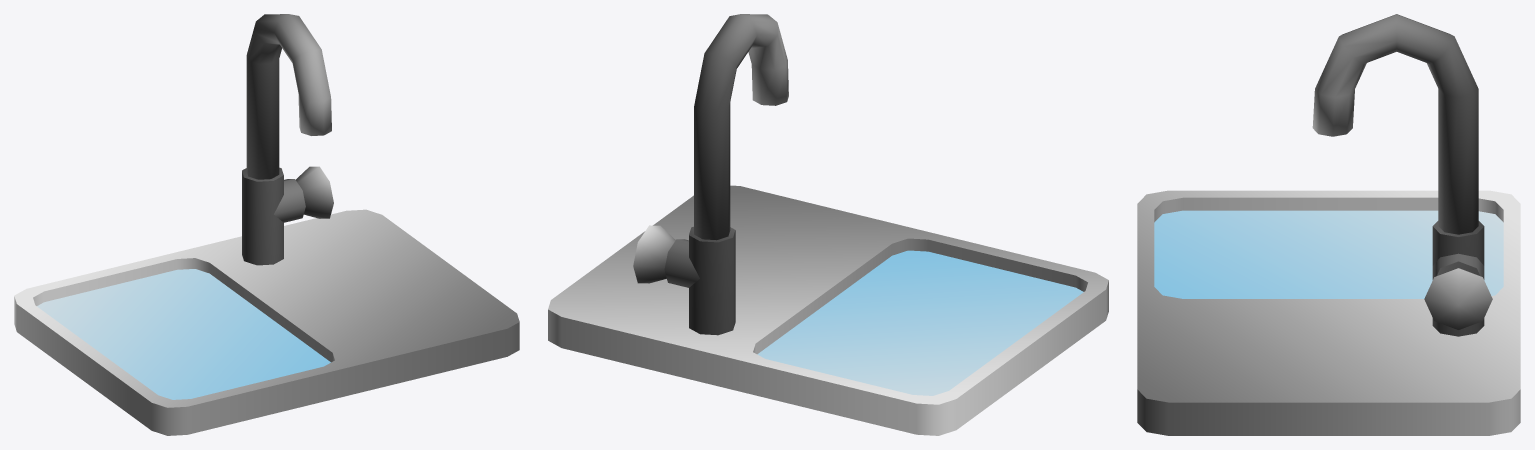
The model's file is Sink.fbx.
The picture shows the model from 3 angles, left to right: view 1: azimuth 30°, elevation 25°; view 2: azimuth 150°, elevation 25°; view 3: azimuth 270°, elevation 25°; orthographic projection. The views are drawn at different scales.
Parts seen in each view (by area): view 1: Water Sink Here; view 2: Water Sink Here; view 3: Water Sink Here.
Boxes of the visible parts, x1,y1,x2,y2 form: Water Sink Here: (14,14,519,435); Water Sink Here: (548,14,1108,435); Water Sink Here: (1137,14,1520,435).
Size of the model in its own units: 97.91 by 74.18 by 74.77.
Materials: 1 (1 with a texture image).
